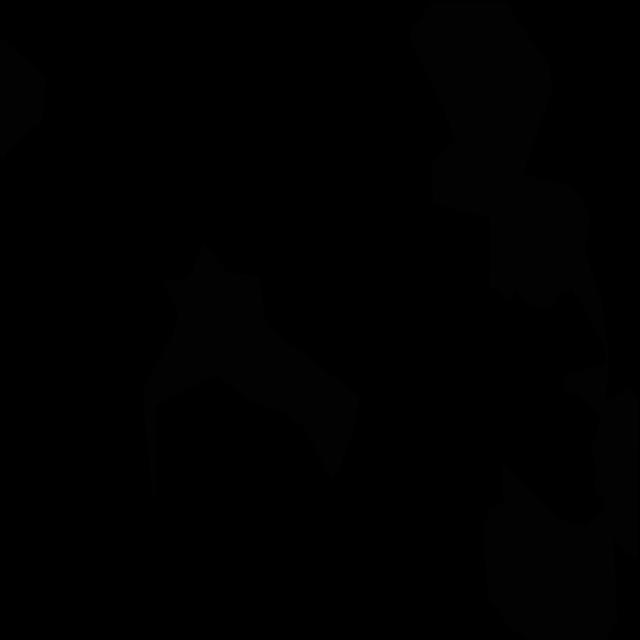cardboard: (142, 243, 360, 516), (409, 1, 591, 256), (489, 188, 609, 402), (483, 465, 618, 640), (561, 372, 639, 560)
